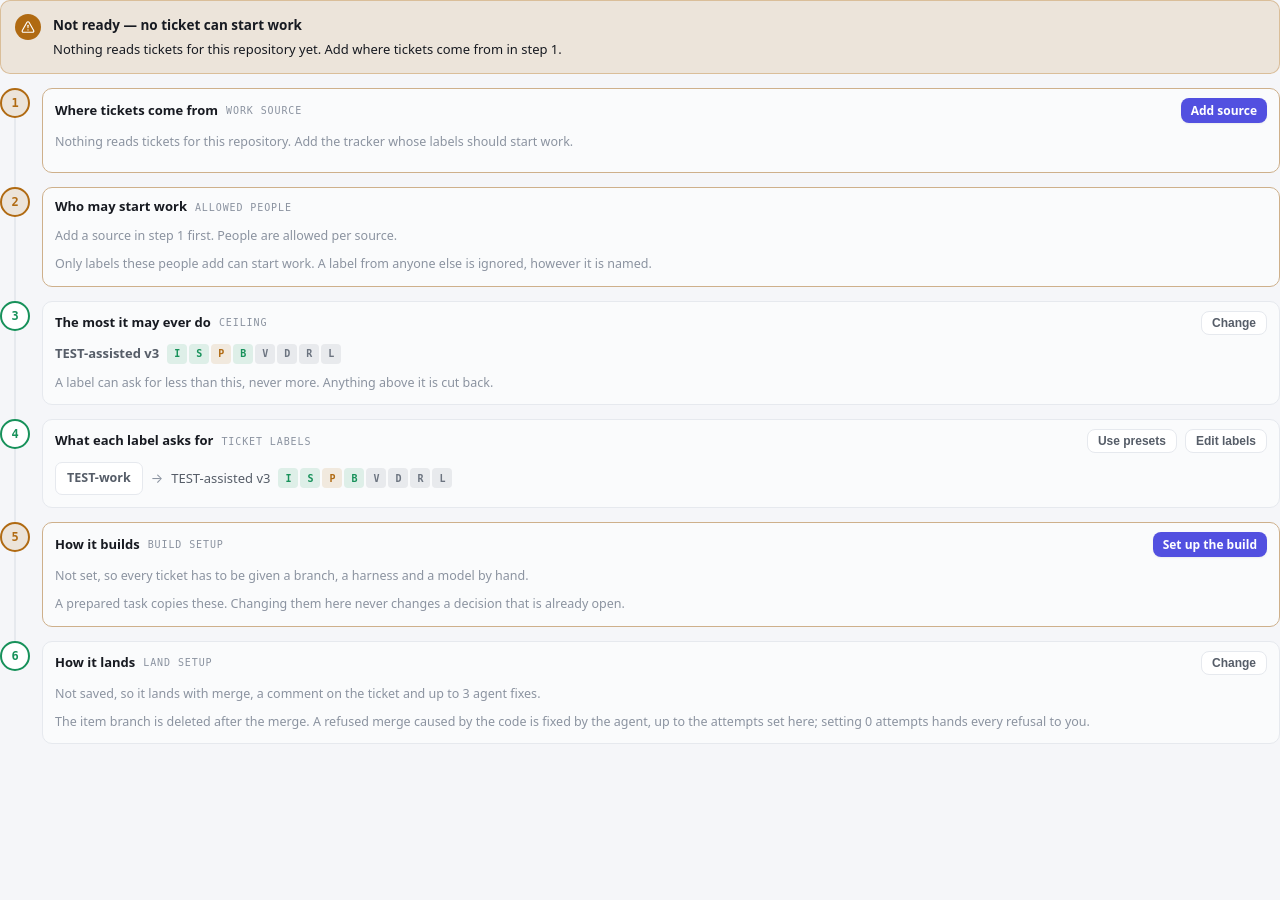
Test: registers a forge source whose scope is the repository itself
Click the button "Add source" at (1224, 110), box [1181,98,1267,123]
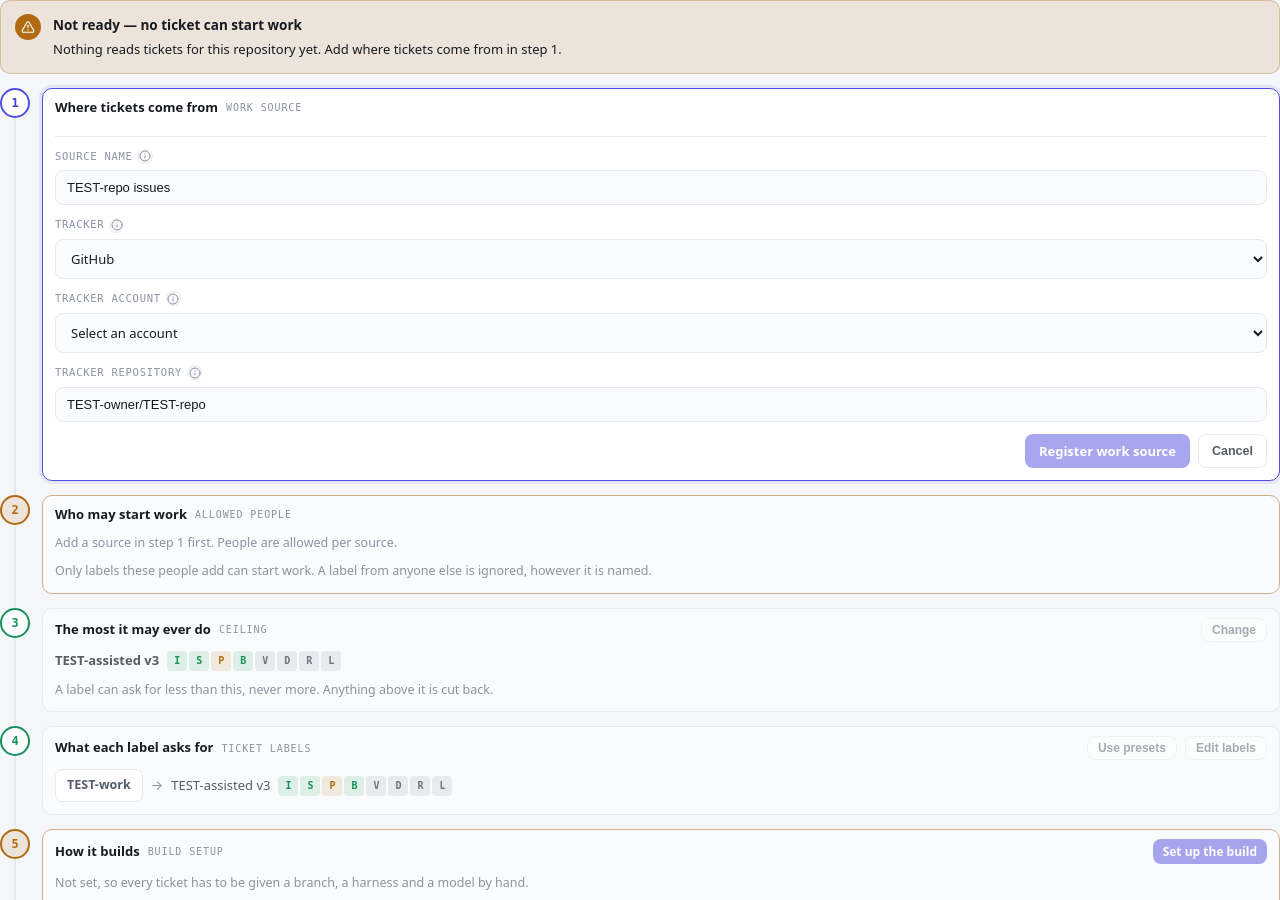
Expected: the field named "Source name" holds "TEST-repo issues", [55,170,1267,205]
Select "TEST-github account · github · Factory · @TEST-bot" in the dropdown named "Tracker account" at (661, 333), box [55,313,1267,353]
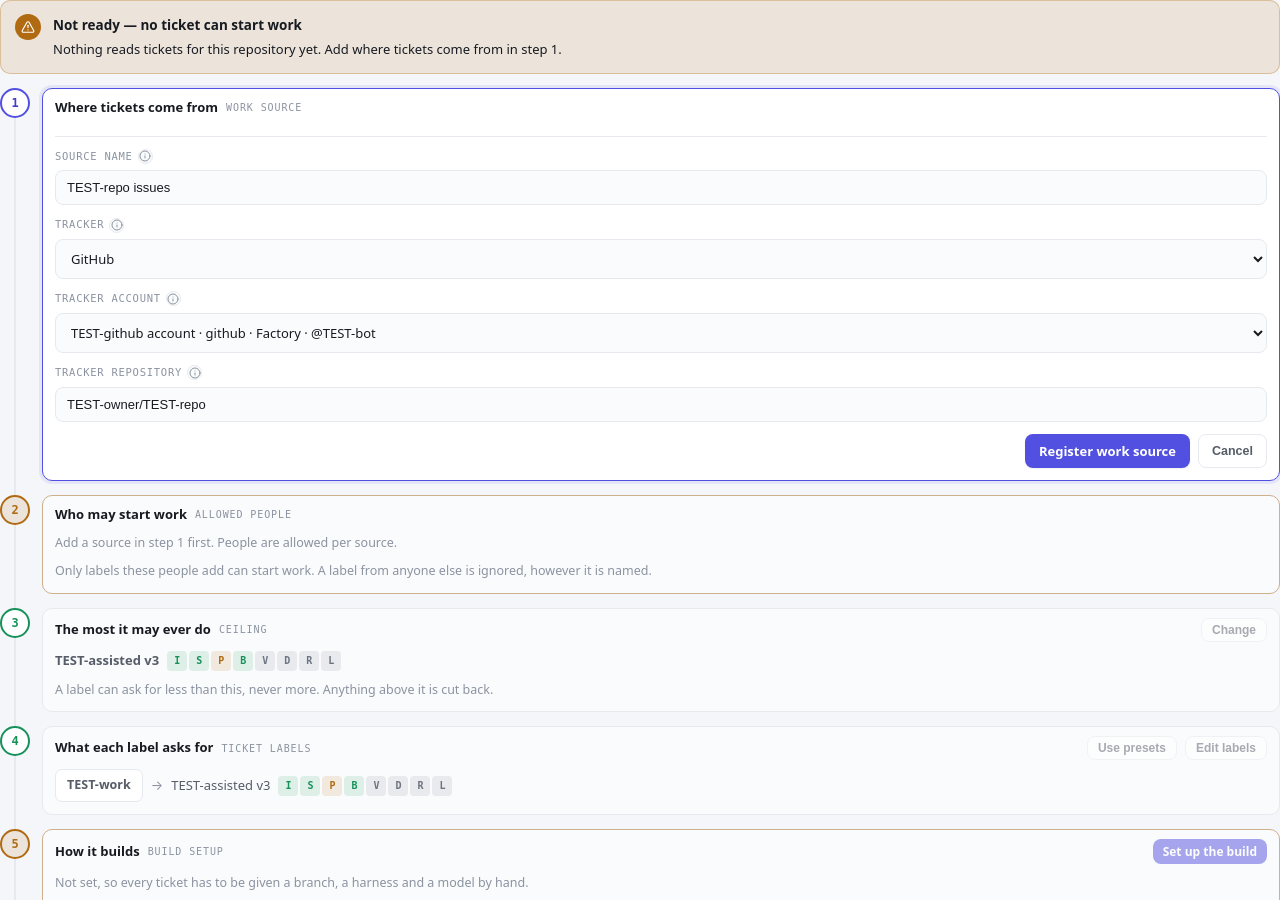
Click the button "Register work source" at (1107, 450), box [1025,434,1190,468]
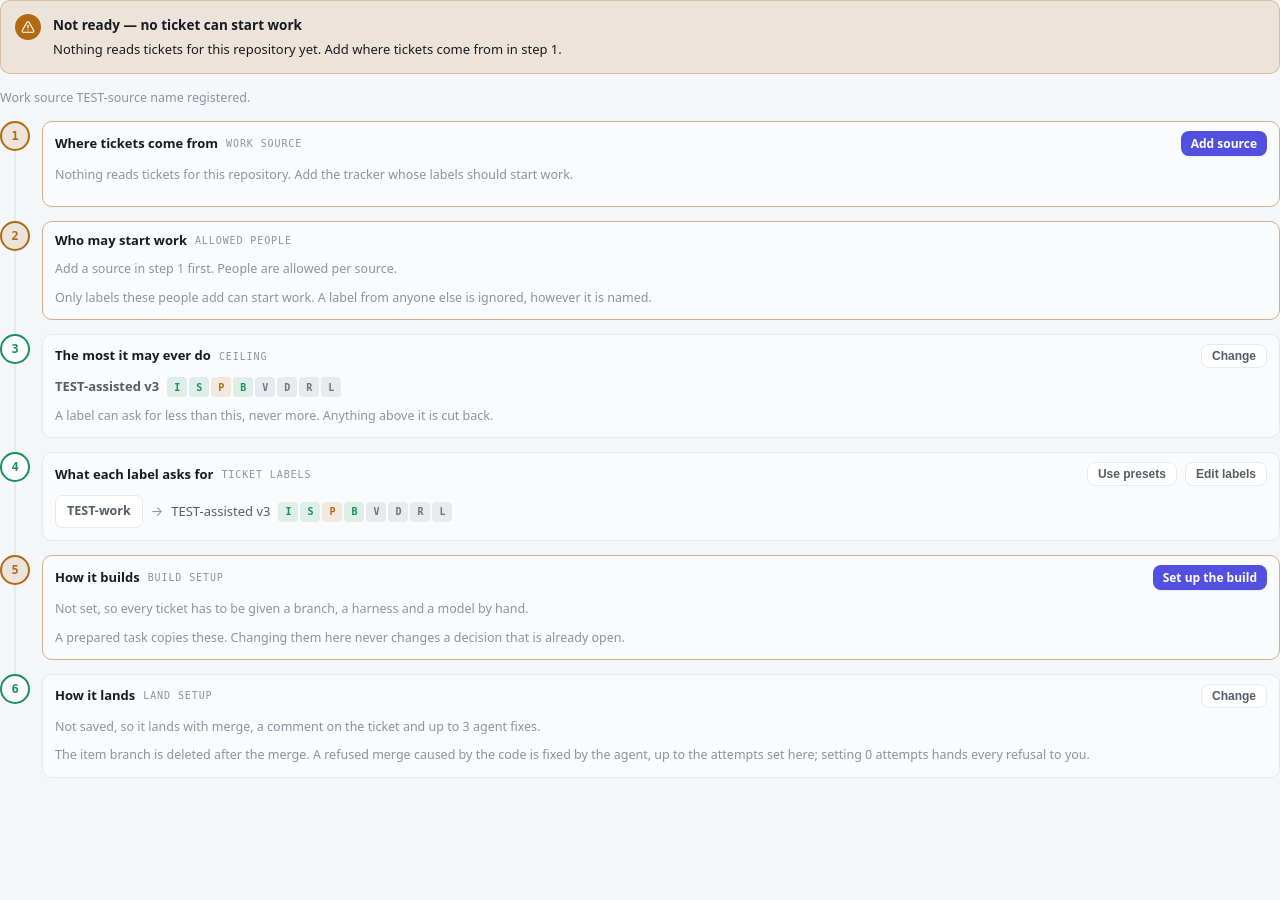
Expected: the text "Work source TEST-source name registered." is shown, [0,89,250,106]
